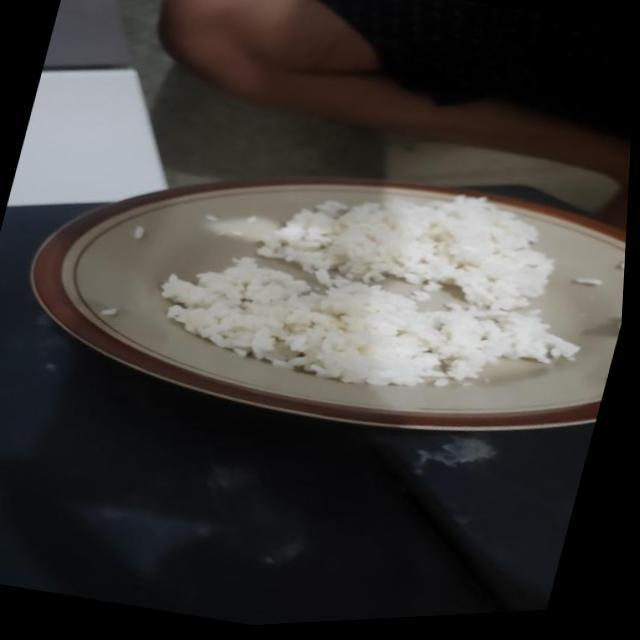nasi_putih: (161, 256, 578, 386), (226, 196, 554, 310)
